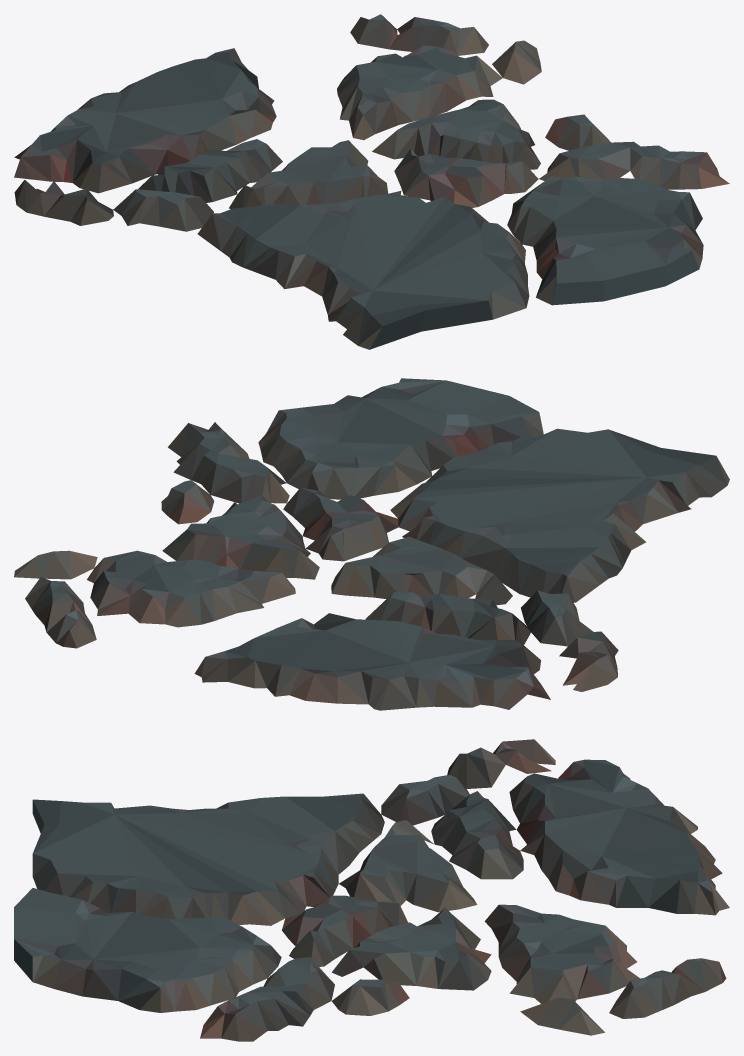
Rendered from Volcanic_D.fbx.
The picture shows the model from 3 angles, top to bottom: view 1: azimuth 30°, elevation 25°; view 2: azimuth 150°, elevation 25°; view 3: azimuth 270°, elevation 25°; orthographic projection. The views are drawn at different scales.
Visible parts, largest first — view 1: Volcanic_D; view 2: Volcanic_D; view 3: Volcanic_D.
Boxes of the visible parts, <box> form: Volcanic_D: <box>14,14,729,349</box>; Volcanic_D: <box>14,378,729,710</box>; Volcanic_D: <box>14,739,729,1041</box>.
Bounding box in the file's own units: 9550 × 339 × 10063.
